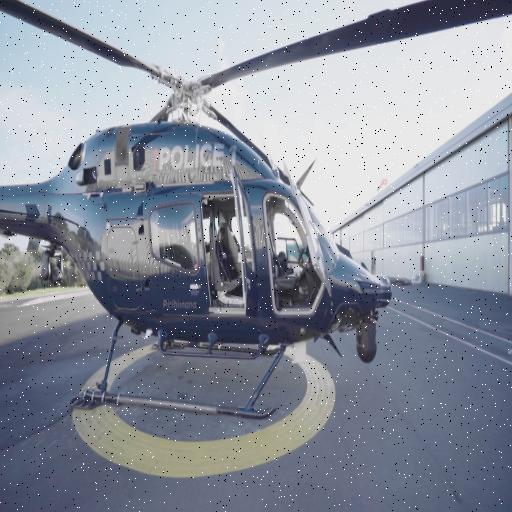helicopter: (1, 1, 413, 443)
